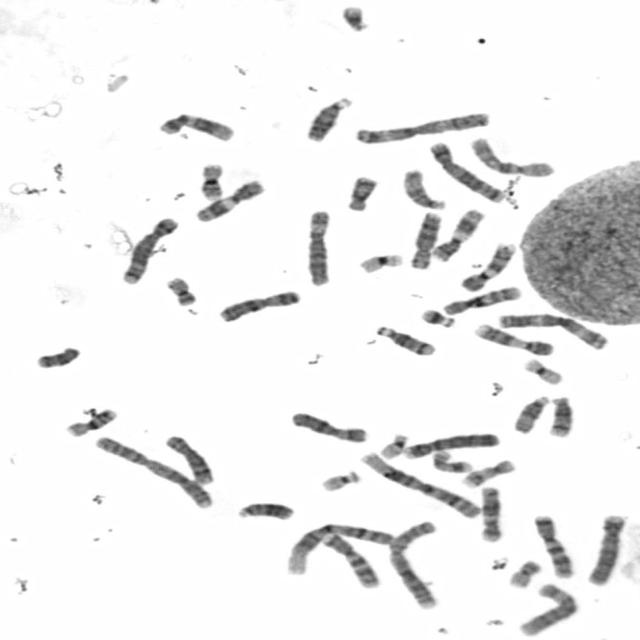A1: (357, 450, 483, 520), (282, 519, 396, 577)
A2: (90, 432, 215, 510), (384, 517, 442, 610)
A3: (349, 108, 493, 144), (494, 311, 610, 350)
B4: (582, 510, 628, 586), (399, 430, 502, 460)
B5: (426, 139, 505, 204), (117, 214, 180, 285)
C10: (469, 136, 558, 180), (438, 283, 522, 317)
C11: (191, 177, 267, 223), (429, 206, 486, 262)
C12: (154, 110, 237, 143), (476, 484, 504, 542)
C6: (513, 580, 580, 638), (300, 208, 334, 290)
C7: (318, 528, 382, 590), (529, 511, 576, 579)
C8: (162, 432, 215, 486), (407, 210, 444, 270)
C9: (457, 240, 517, 292), (470, 321, 554, 357)
D13: (302, 94, 354, 143), (233, 499, 295, 521)
D14: (371, 323, 438, 357), (544, 393, 576, 438)
D15: (399, 168, 447, 212), (509, 393, 550, 435)
E16: (62, 403, 120, 438), (194, 160, 227, 202)
E17: (458, 456, 518, 488), (429, 448, 475, 474)
E18: (342, 173, 380, 213), (32, 345, 83, 369)
F19: (520, 355, 564, 386), (353, 250, 405, 275)
F20: (505, 558, 544, 588), (162, 274, 198, 306)
G21: (336, 2, 373, 34), (416, 306, 457, 329)
G22: (316, 467, 364, 494), (375, 431, 410, 460)
X: (214, 287, 303, 324), (288, 410, 368, 443)
